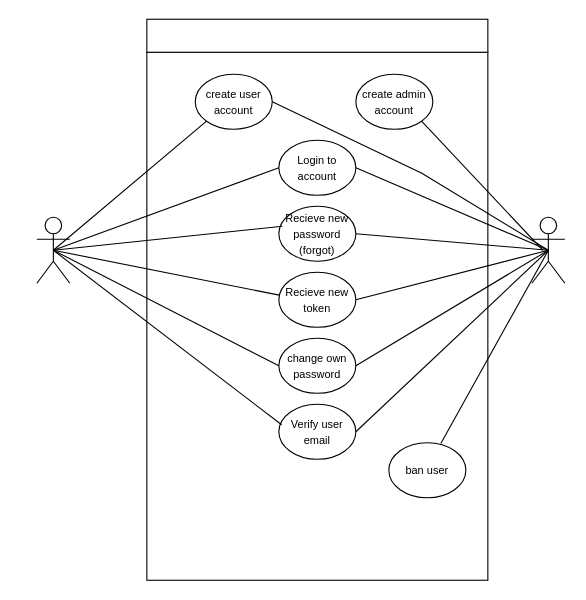
Some shapes in this 586 by 600 pixel diagram are drawn without their labels. Each missing label, with the centre of its shape:
accounts: the point at 317,35
Admin: the point at 548,249
normal user: the point at 53,249
